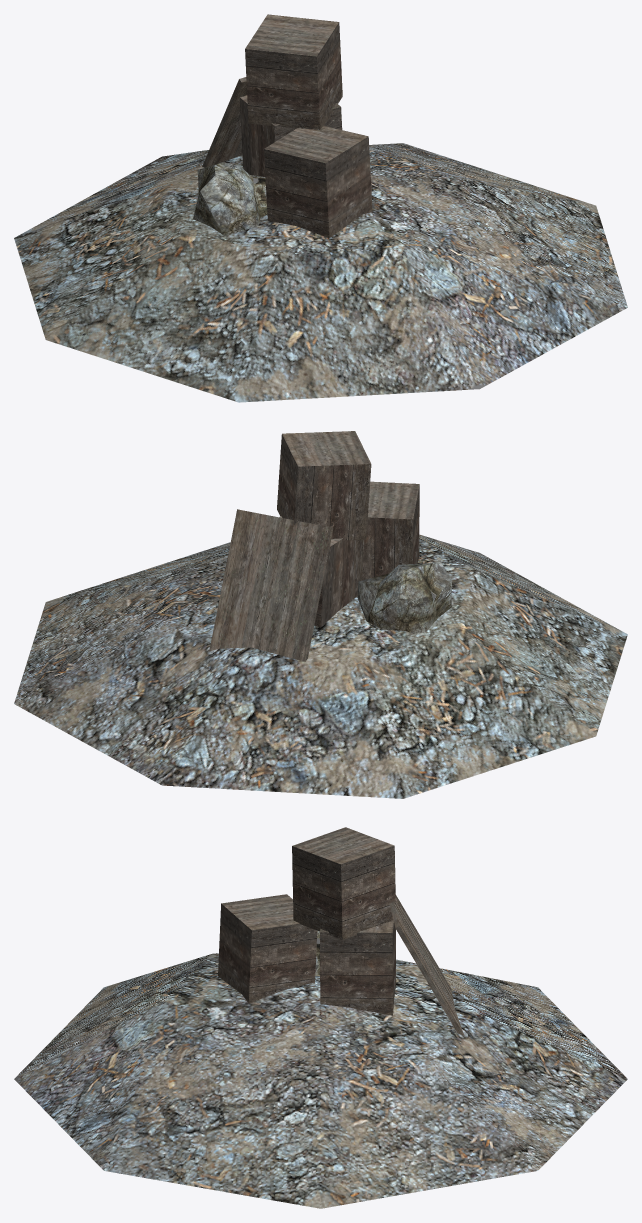
File: props_garbage_01_lod_02.fbx
3 renders of one model, top to bottom at view 1: azimuth 30°, elevation 25°; view 2: azimuth 150°, elevation 25°; view 3: azimuth 270°, elevation 25°, orthographic. The views are drawn at different scales.
Visible parts, largest first — view 1: props_garbage_01_lod_02; view 2: props_garbage_01_lod_02; view 3: props_garbage_01_lod_02.
Boxes of the visible parts, box(x1,y1,x2,y2) form: props_garbage_01_lod_02: box(14, 14, 627, 402); props_garbage_01_lod_02: box(14, 431, 627, 798); props_garbage_01_lod_02: box(14, 827, 627, 1208).
Bounding box in the file's own units: 760 × 312 × 760.
